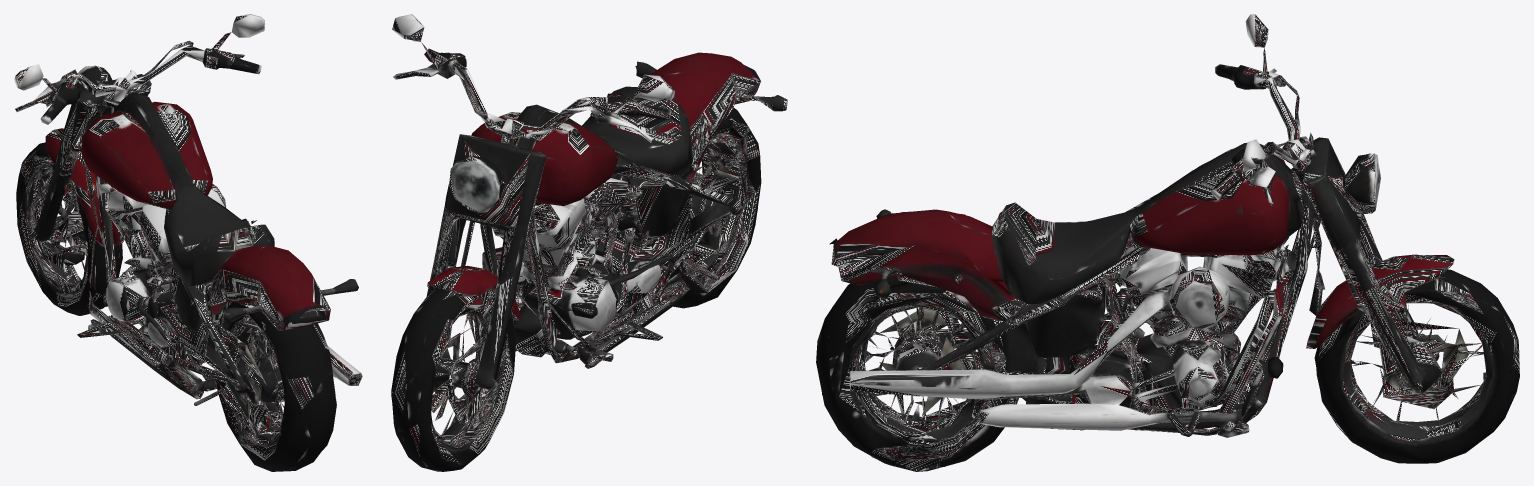
The model's file is moto-custom.glb.
3 views of the same model, side by side, from view 1: azimuth 30°, elevation 25°; view 2: azimuth 150°, elevation 25°; view 3: azimuth 270°, elevation 25° (orthographic). The views are drawn at different scales.
Visible parts, largest first — view 1: corpo, rodaT, rodaD; view 2: corpo, rodaD, rodaT; view 3: corpo, rodaD, rodaT.
Part boxes in pixels (x1,y1,x2,y2): corpo: (14, 14, 362, 405); rodaT: (200, 307, 336, 471); rodaD: (16, 142, 122, 315); corpo: (392, 14, 787, 389); rodaD: (391, 278, 521, 471); rodaT: (669, 107, 761, 308); corpo: (829, 14, 1454, 437); rodaD: (1313, 269, 1519, 463); rodaT: (816, 279, 1017, 471).
Size of the model in its own units: 1.09 by 1.38 by 2.27.
1 material, 1 textured.
